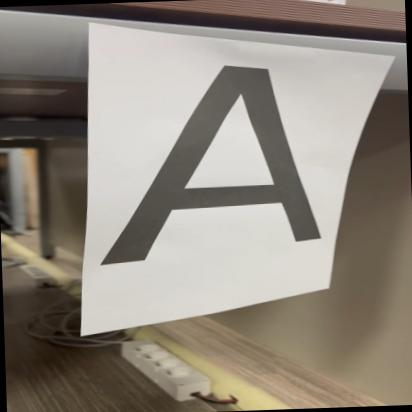seat: (102, 56, 340, 272)
